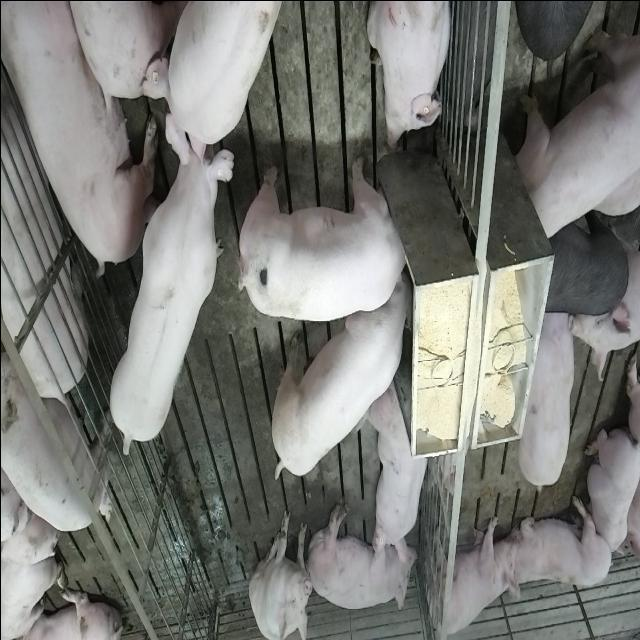Feeding: (264, 277, 410, 481), (232, 156, 408, 322)
Lateral_lying: (4, 0, 158, 273), (303, 502, 418, 614)
Sitting: (248, 507, 312, 639)
Standing: (108, 110, 235, 456), (0, 31, 89, 410), (514, 16, 638, 246), (138, 0, 285, 159), (0, 332, 111, 536), (516, 308, 580, 494), (427, 508, 517, 639), (540, 214, 626, 319)
Sternal_lying: (366, 0, 454, 150), (364, 381, 431, 563), (507, 498, 612, 600), (582, 424, 638, 570)
